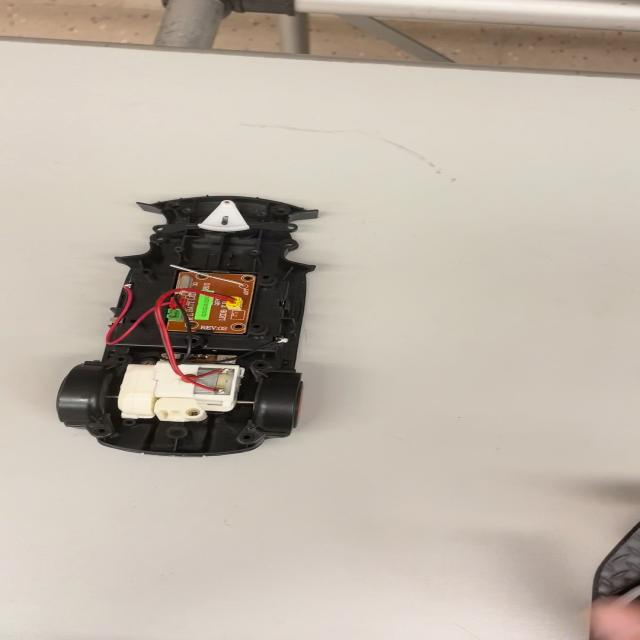Chassis: (77, 193, 317, 462)
